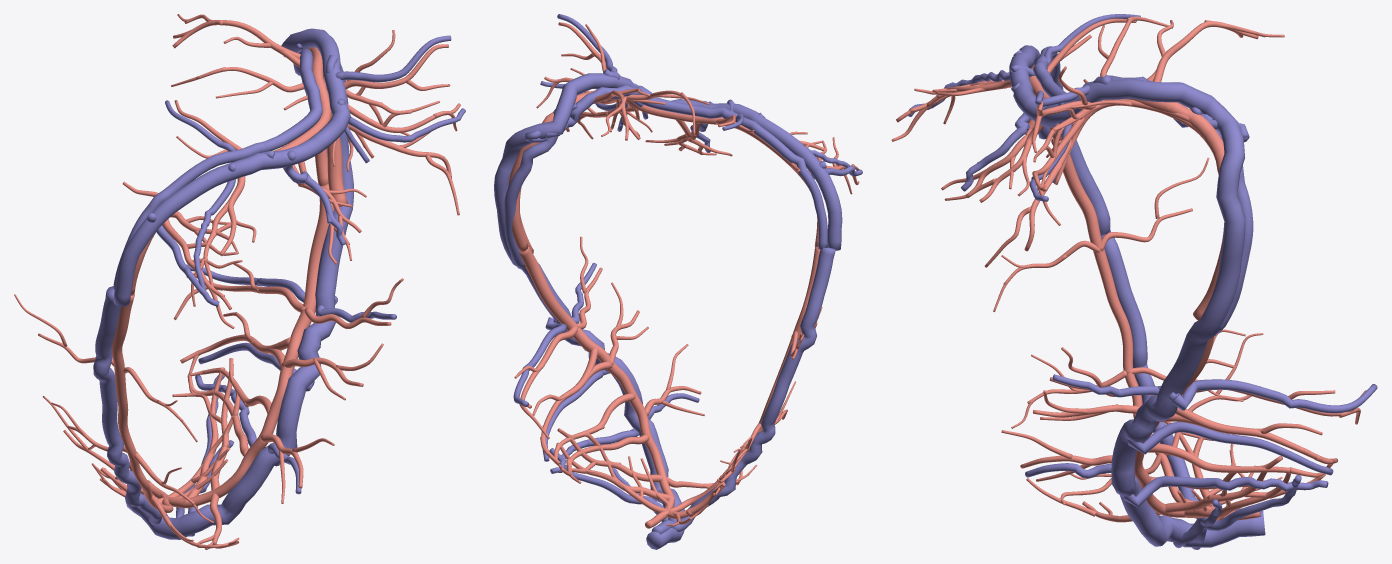
File: vessels_65.glb
3 views of the same model, side by side, from view 1: azimuth 30°, elevation 25°; view 2: azimuth 150°, elevation 25°; view 3: azimuth 270°, elevation 25° (orthographic). The views are drawn at different scales.
Parts seen in each view (by area): view 1: Renderer Node; view 2: Renderer Node; view 3: Renderer Node.
Part boxes in pixels (box(x1,y1,x2,y2)): Renderer Node: box(14, 14, 465, 549); Renderer Node: box(494, 14, 862, 549); Renderer Node: box(891, 14, 1377, 549).
Bounding box in the file's own units: 95.13 × 124 × 95.61.
